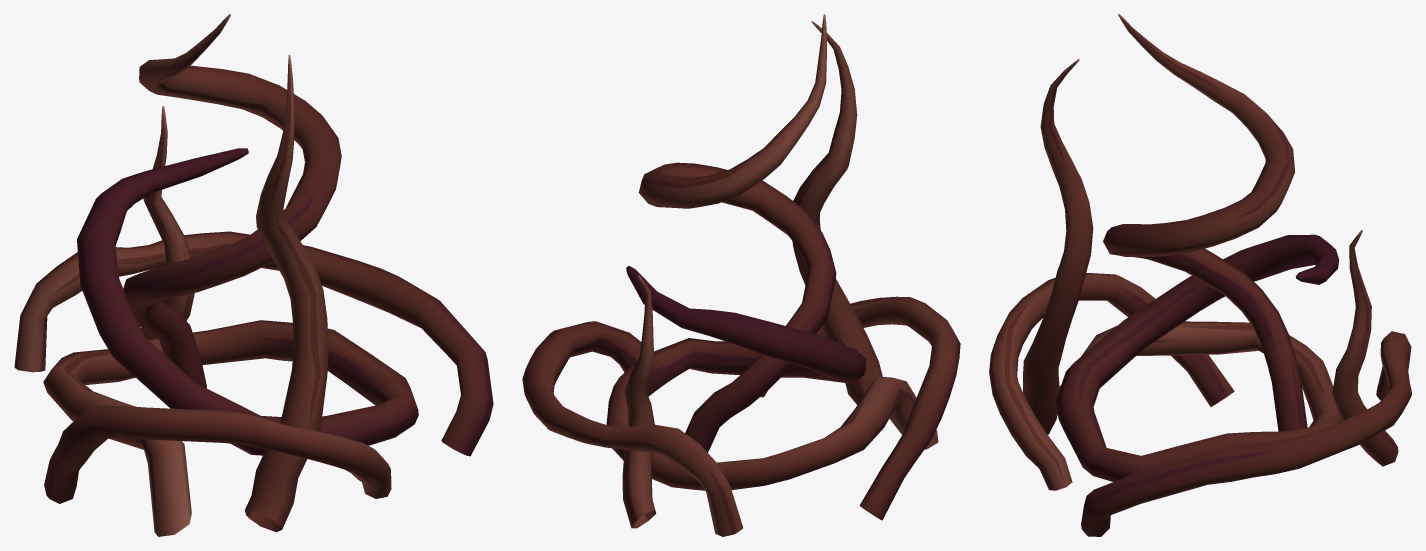
The model's file is MagicRoot_001.001_Color_B.fbx.
3 renders of one model, left to right at view 1: azimuth 30°, elevation 25°; view 2: azimuth 150°, elevation 25°; view 3: azimuth 270°, elevation 25°, orthographic. The views are drawn at different scales.
Visible parts, largest first — view 1: MagicRoot_001.001_Color_B; view 2: MagicRoot_001.001_Color_B; view 3: MagicRoot_001.001_Color_B.
Boxes of the visible parts, x1,y1,x2,y2 form: MagicRoot_001.001_Color_B: [14, 14, 493, 536]; MagicRoot_001.001_Color_B: [522, 14, 960, 536]; MagicRoot_001.001_Color_B: [989, 14, 1411, 536].
Bounding box in the file's own units: 155 × 179 × 155.
